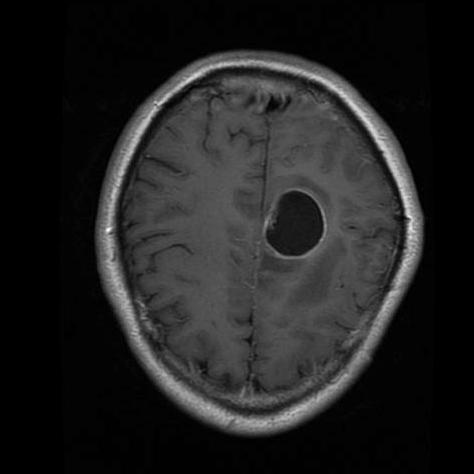Tumour-Glioma: (258, 186, 337, 266)
